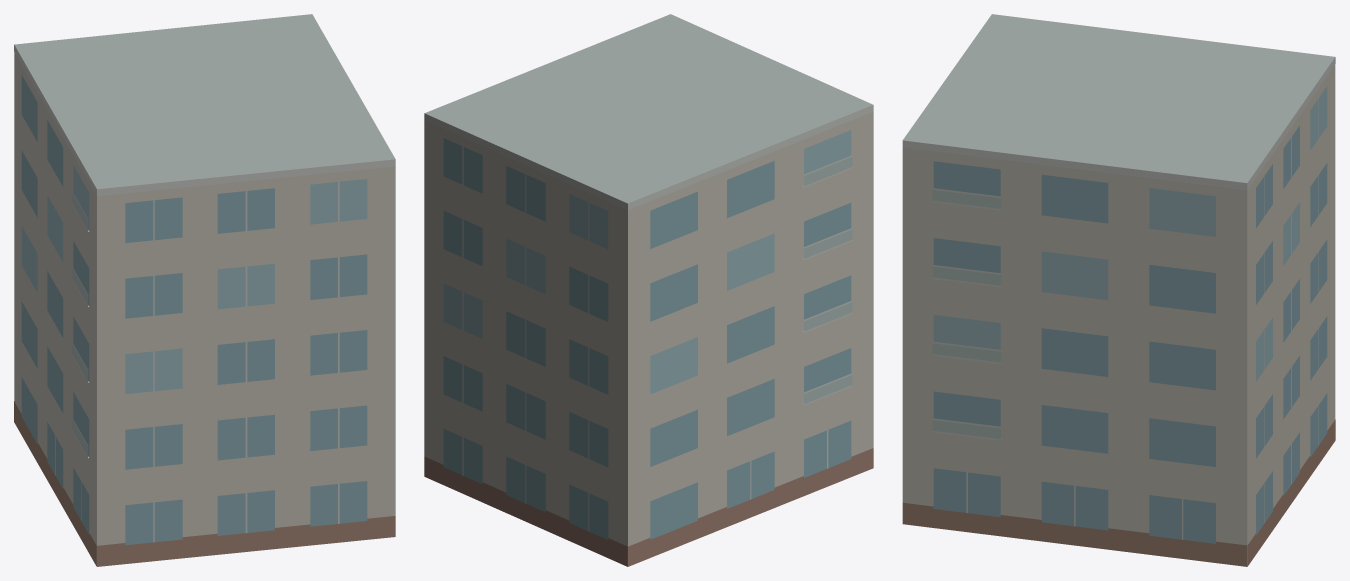
Rendered from survey-upis-32934959.glb.
The picture shows the model from 3 angles, left to right: view 1: azimuth 30°, elevation 25°; view 2: azimuth 150°, elevation 25°; view 3: azimuth 270°, elevation 25°; orthographic projection. The views are drawn at different scales.
Parts seen in each view (by area): view 1: survey-upis-32934959.tmp; view 2: survey-upis-32934959.tmp; view 3: survey-upis-32934959.tmp.
Part boxes in pixels (x1=…): survey-upis-32934959.tmp: x1=14, y1=14, x2=395, y2=566; survey-upis-32934959.tmp: x1=424, y1=14, x2=873, y2=566; survey-upis-32934959.tmp: x1=902, y1=14, x2=1335, y2=566.
Bounding box in the file's own units: 12.49 × 13.2 × 13.51.
